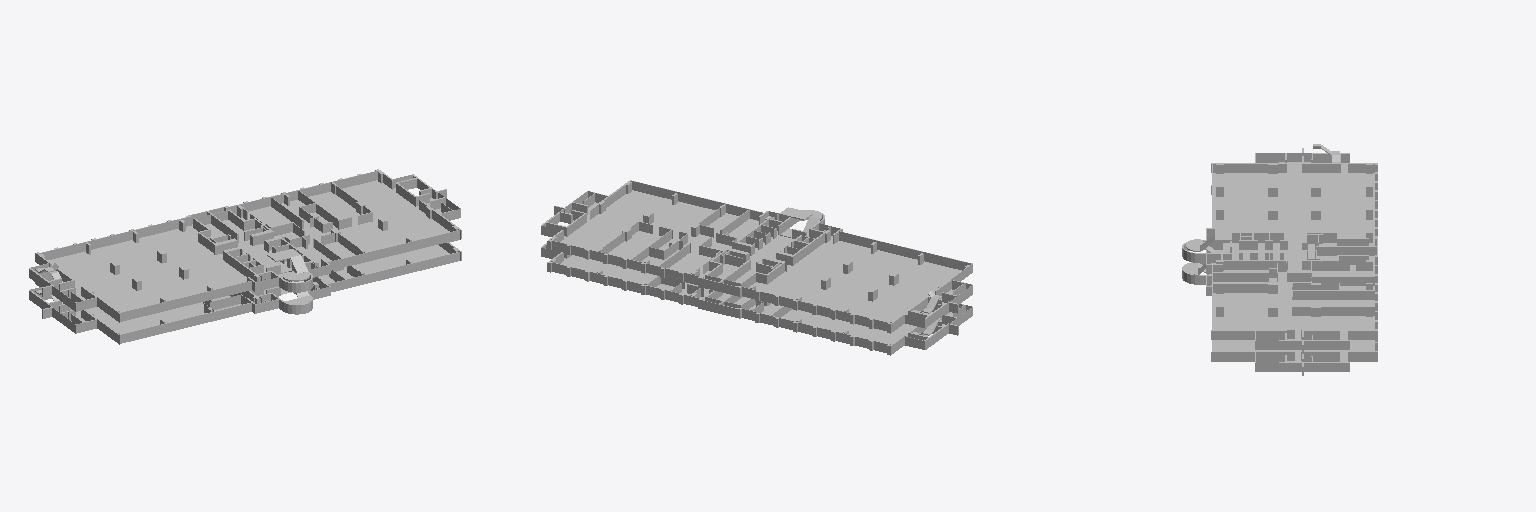
Rendered from decimo_terceiro_versao_01.obj.
3 renders of one model, left to right at view 1: azimuth 30°, elevation 25°; view 2: azimuth 150°, elevation 25°; view 3: azimuth 270°, elevation 25°, orthographic.
Size of the model in its own units: 64.28 by 6.66 by 27.01.